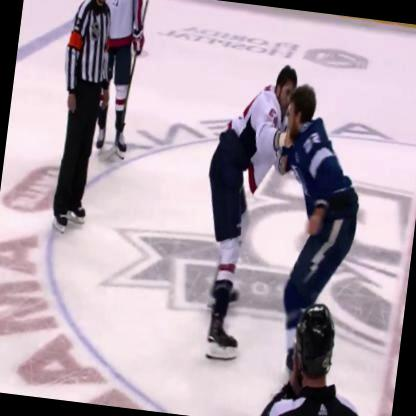non-Voilence: (40, 0, 124, 241)
voilence: (192, 58, 373, 336)
